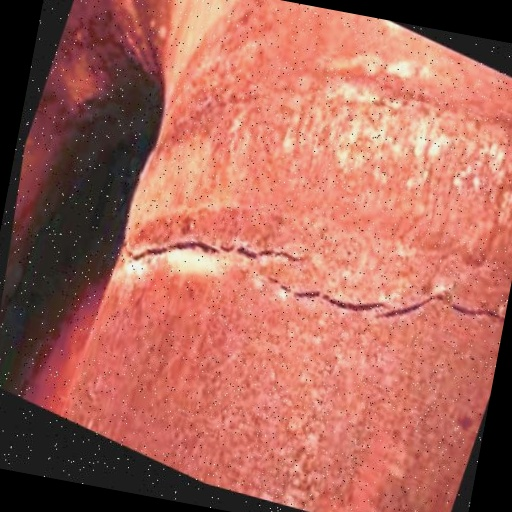crack: (100, 134, 512, 433)
